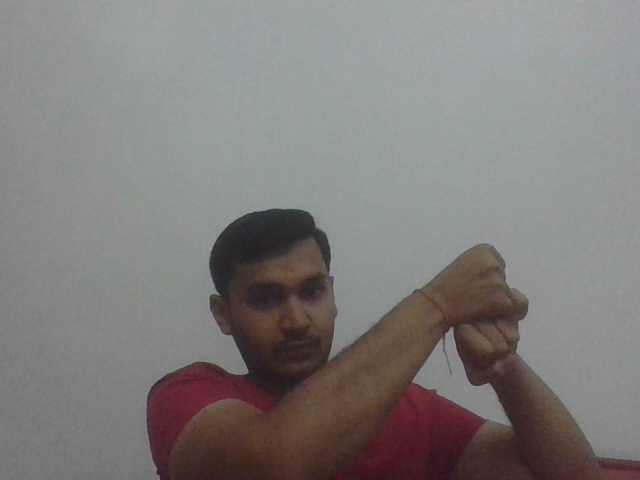S: (444, 239, 527, 387)
